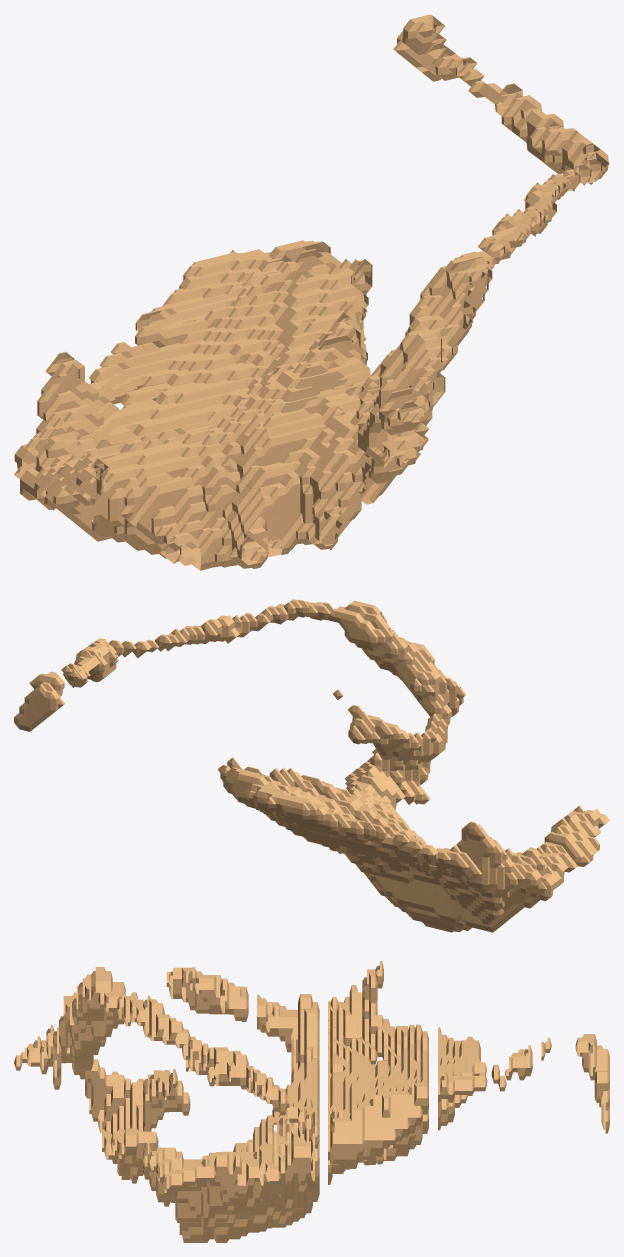
The model's file is SVV_URYVR.gltf.
The picture shows the model from 3 angles, top to bottom: view 1: azimuth 30°, elevation 25°; view 2: azimuth 150°, elevation 25°; view 3: azimuth 270°, elevation 25°; orthographic projection. The views are drawn at different scales.
Visible parts, largest first — view 1: URYVR; view 2: URYVR; view 3: URYVR.
Boxes of the visible parts, x1,y1,x2,y2 form: URYVR: [14, 14, 609, 570]; URYVR: [14, 599, 609, 932]; URYVR: [14, 961, 609, 1242].
Size of the model in its own units: 45076 by 24068 by 35475.
